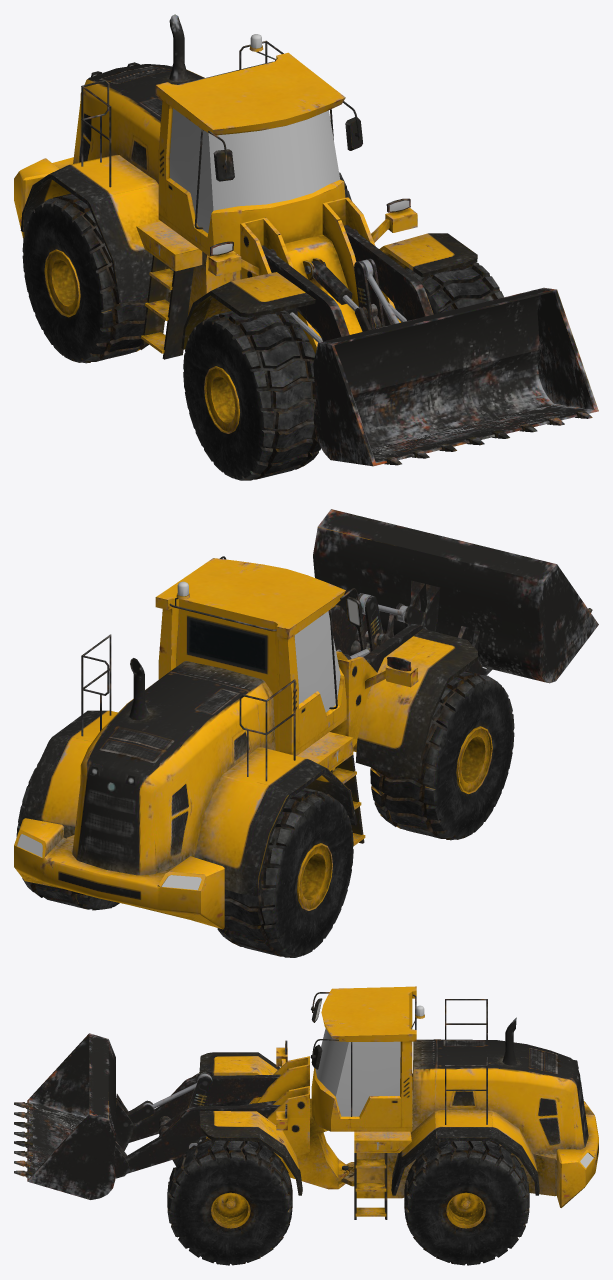
The model's file is EQP_Loader.fbx.
The picture shows the model from 3 angles, top to bottom: view 1: azimuth 30°, elevation 25°; view 2: azimuth 150°, elevation 25°; view 3: azimuth 270°, elevation 25°; orthographic projection. The views are drawn at different scales.
Parts seen in each view (by area): view 1: Loader_LOD0; view 2: Loader_LOD0; view 3: Loader_LOD0.
Boxes of the visible parts, x1,y1,x2,y2 form: Loader_LOD0: (14, 14, 598, 480); Loader_LOD0: (14, 509, 598, 957); Loader_LOD0: (14, 986, 598, 1265).
Size of what is drawn, in the model's own units: 3.67 by 4.1 by 9.54.
